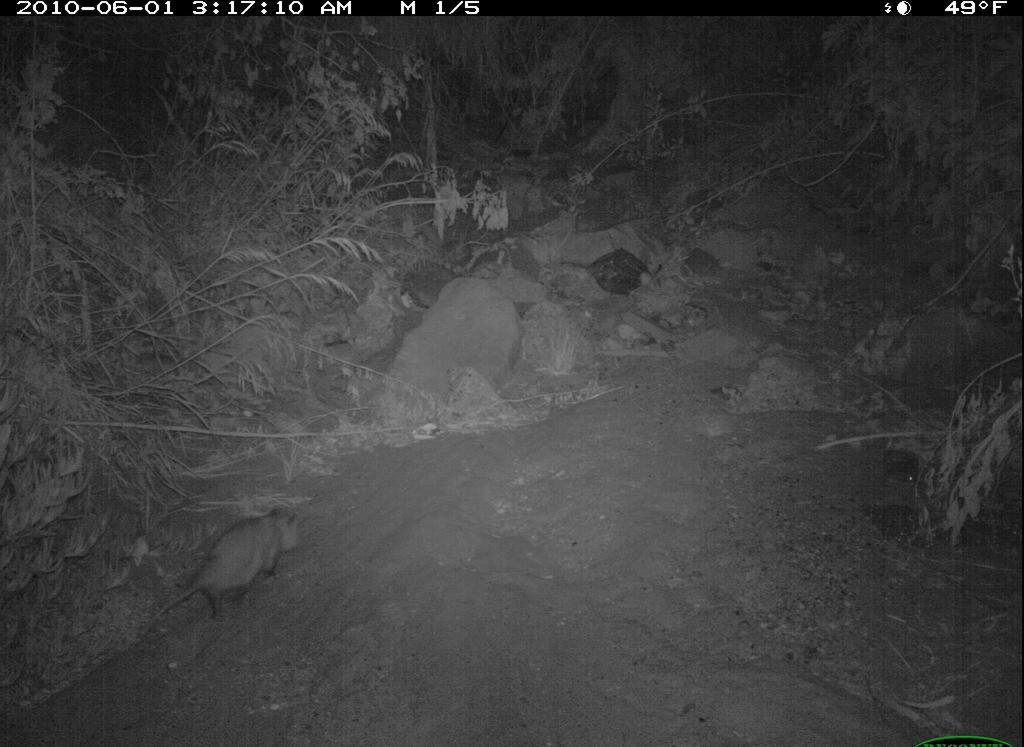opossum: (139, 495, 329, 647)
